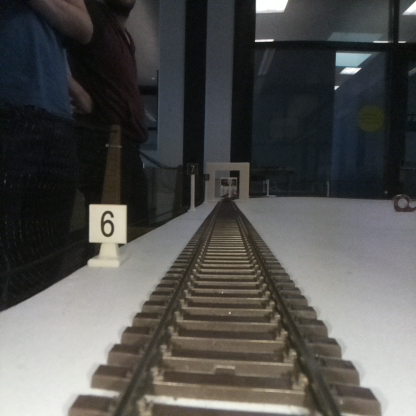black-info-7: (188, 164, 197, 210)
white-stop-6: (88, 204, 126, 267)
